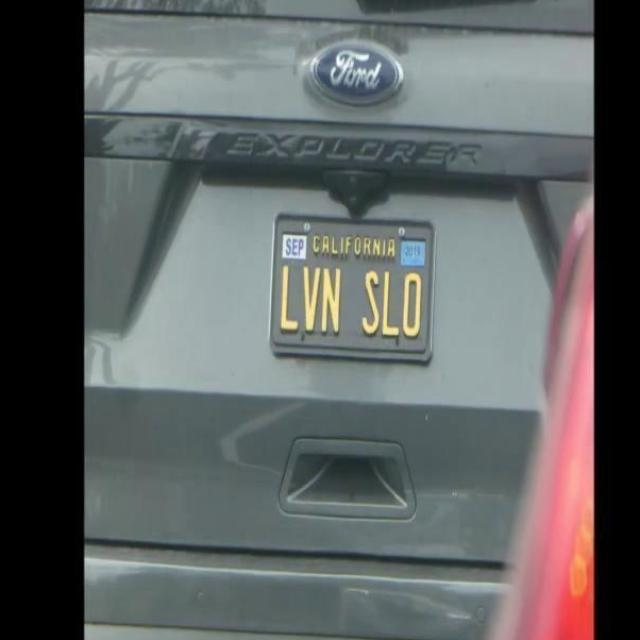license-plate: (269, 202, 428, 362)
